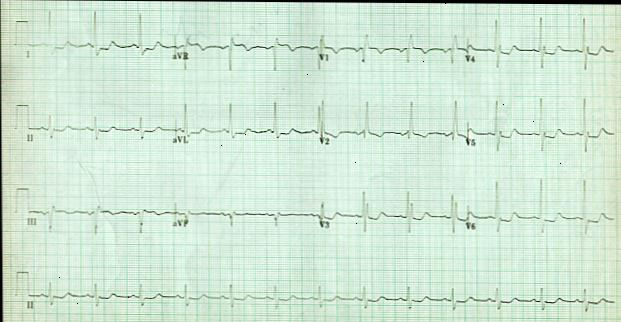Lead_I: (23, 8, 173, 76)
Lead_II: (25, 99, 172, 158)
Lead_III: (23, 182, 173, 243)
Lead_II_ext: (21, 266, 617, 319)
Lead_V1: (316, 12, 463, 81)
Lead_V2: (314, 93, 465, 161)
Lead_V3: (315, 178, 465, 241)
Lead_V4: (461, 10, 617, 79)
Lead_V5: (464, 93, 617, 158)
Lead_V6: (463, 170, 618, 250)
Lead_aVF: (172, 177, 316, 244)
Lead_aVL: (170, 94, 317, 162)
Lead_aVR: (171, 6, 317, 82)
